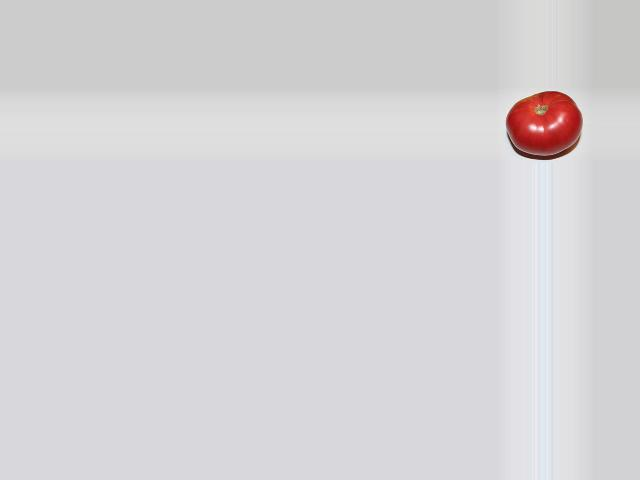tomato: (505, 90, 583, 154)
